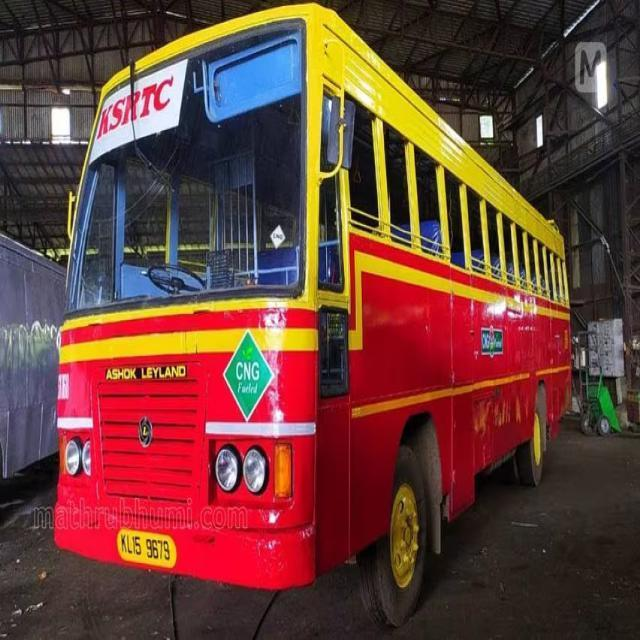Ambulance: (50, 3, 574, 589)
